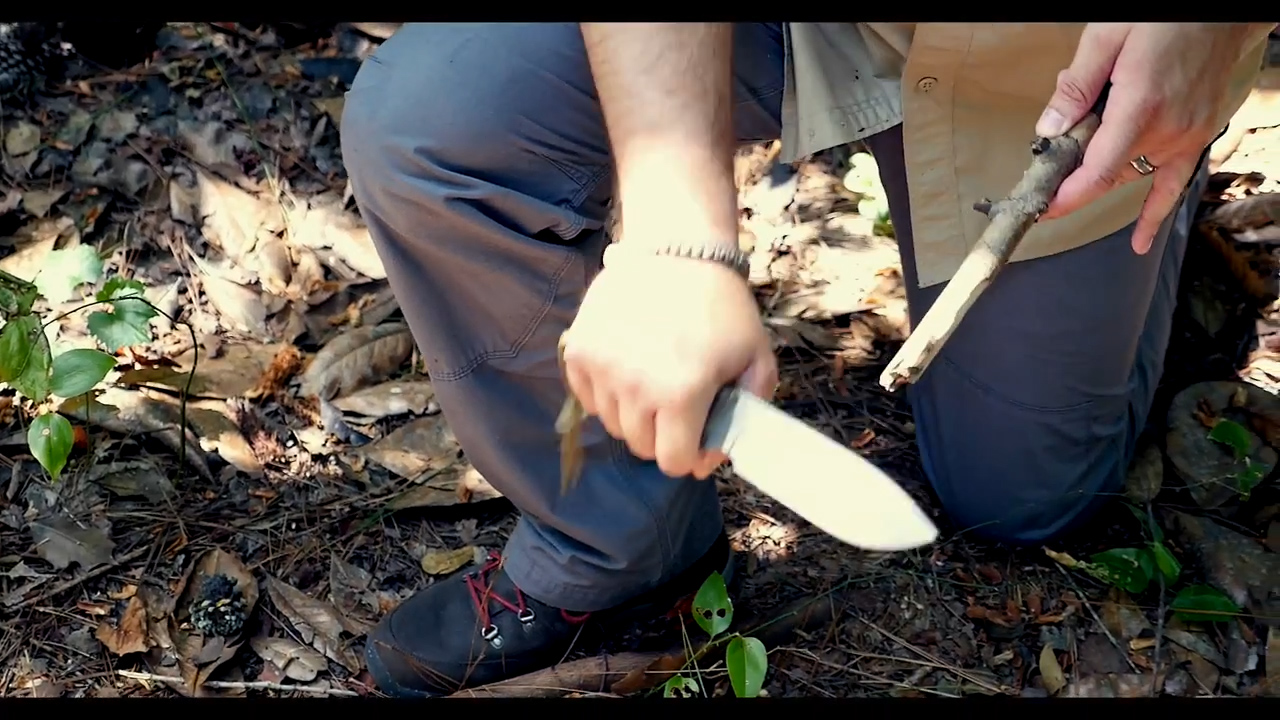knife: (586, 345, 949, 564)
